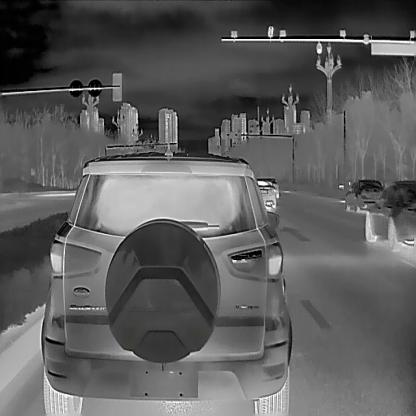car: (42, 151, 292, 416), (364, 177, 416, 250), (344, 177, 382, 214), (255, 178, 276, 211), (267, 178, 278, 198)
